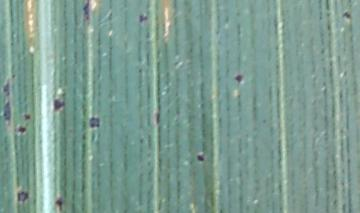tarspot: (1, 76, 12, 123), (52, 97, 66, 114), (81, 1, 92, 21), (87, 116, 102, 129), (16, 190, 29, 203), (54, 197, 65, 211), (14, 125, 28, 135), (137, 13, 149, 24), (194, 153, 205, 163), (340, 11, 352, 20), (233, 73, 242, 84), (22, 112, 31, 121), (9, 41, 14, 47)
